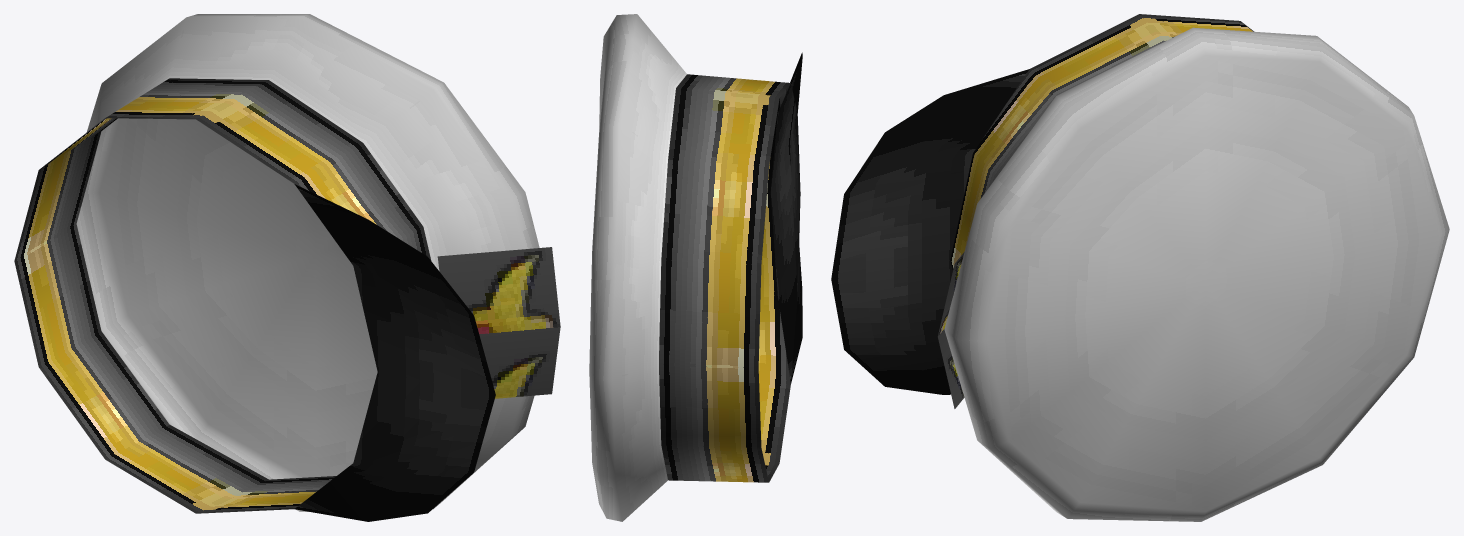
Rendered from cap_cap_police_korean.dae.
3 views of the same model, side by side, from view 1: azimuth 30°, elevation 25°; view 2: azimuth 150°, elevation 25°; view 3: azimuth 270°, elevation 25° (orthographic). The views are drawn at different scales.
Parts seen in each view (by area): view 1: cap_cap_police_korean; view 2: cap_cap_police_korean; view 3: cap_cap_police_korean.
Part boxes in pixels (<box>): cap_cap_police_korean: <box>14,14,560,521</box>; cap_cap_police_korean: <box>589,14,802,521</box>; cap_cap_police_korean: <box>831,14,1449,521</box>.
Size of the model in its own units: 19.74 by 26.51 by 30.31.
Materials: 2 (2 with a texture image).
